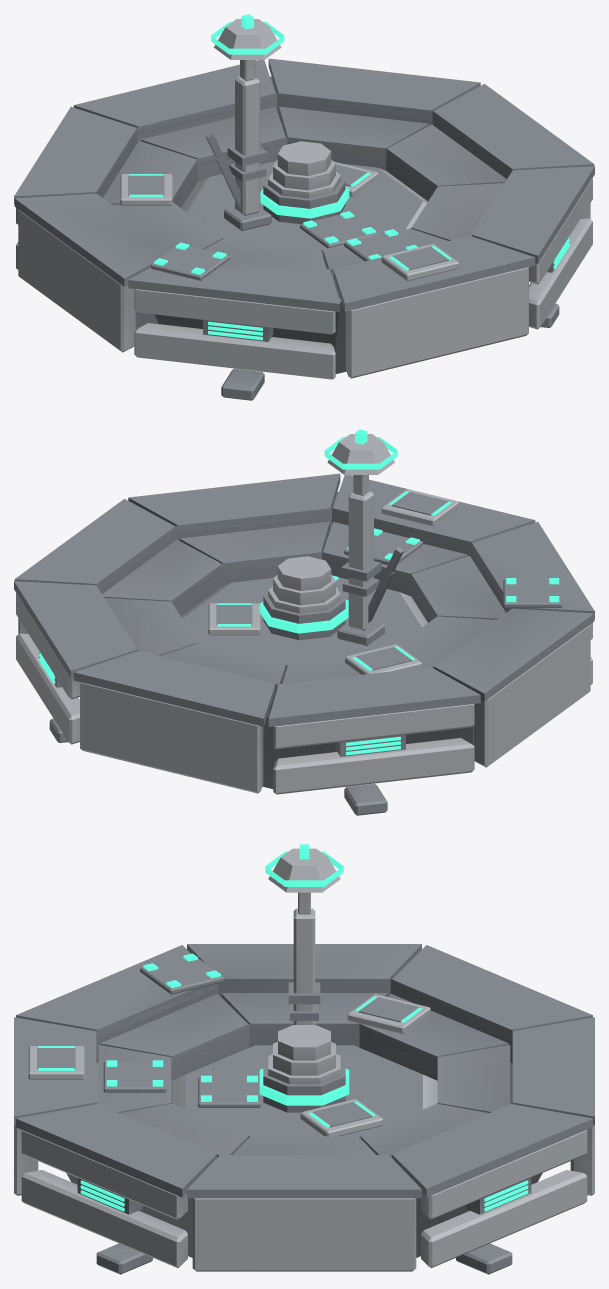
Rendered from module_forms.glb.
The picture shows the model from 3 angles, top to bottom: view 1: azimuth 30°, elevation 25°; view 2: azimuth 150°, elevation 25°; view 3: azimuth 270°, elevation 25°; orthographic projection. The views are drawn at different scales.
Parts seen in each view (by area): view 1: module_form_2, module_form_1, module_form_0; view 2: module_form_2, module_form_1, module_form_0; view 3: module_form_2, module_form_1, module_form_0.
Boxes of the visible parts, bbox=[...] form: module_form_2: bbox=[14, 14, 594, 400]; module_form_1: bbox=[103, 106, 506, 301]; module_form_0: bbox=[181, 160, 427, 249]; module_form_2: bbox=[14, 429, 594, 815]; module_form_1: bbox=[102, 521, 505, 716]; module_form_0: bbox=[181, 575, 427, 664]; module_form_2: bbox=[14, 844, 594, 1274]; module_form_1: bbox=[98, 993, 510, 1154]; module_form_0: bbox=[171, 1045, 437, 1136].
Bounding box in the file's own units: 4.8 × 2.84 × 4.8.
